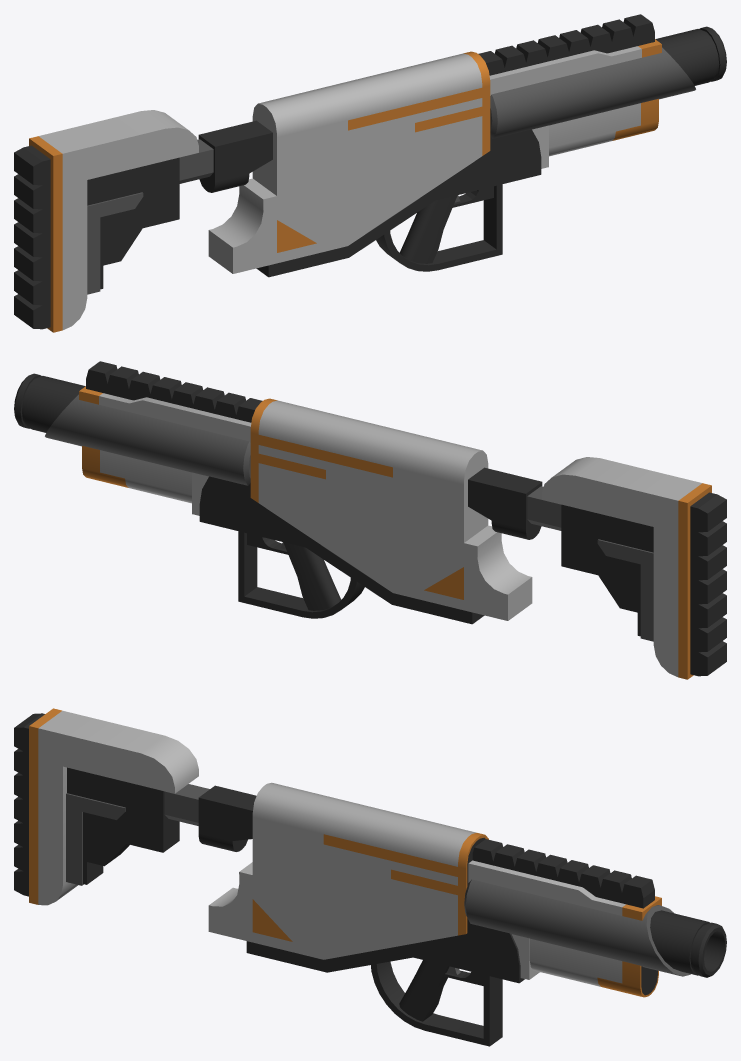
The model's file is Grenade_1.gltf.
The picture shows the model from 3 angles, top to bottom: view 1: azimuth 30°, elevation 25°; view 2: azimuth 150°, elevation 25°; view 3: azimuth 330°, elevation 25°; orthographic projection.
Visible parts, largest first — view 1: Grenade_1; view 2: Grenade_1; view 3: Grenade_1.
Part boxes in pixels (left/top/right/bottom): Grenade_1: left=14, top=14, right=726, bottom=332; Grenade_1: left=14, top=361, right=726, bottom=679; Grenade_1: left=14, top=708, right=726, bottom=1046.
Bounding box in the file's own units: 1.81 × 0.5339 × 0.1459.
